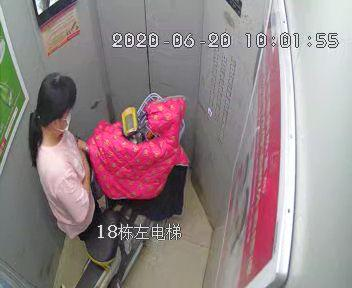Electric-bicycle: (67, 90, 185, 287)
